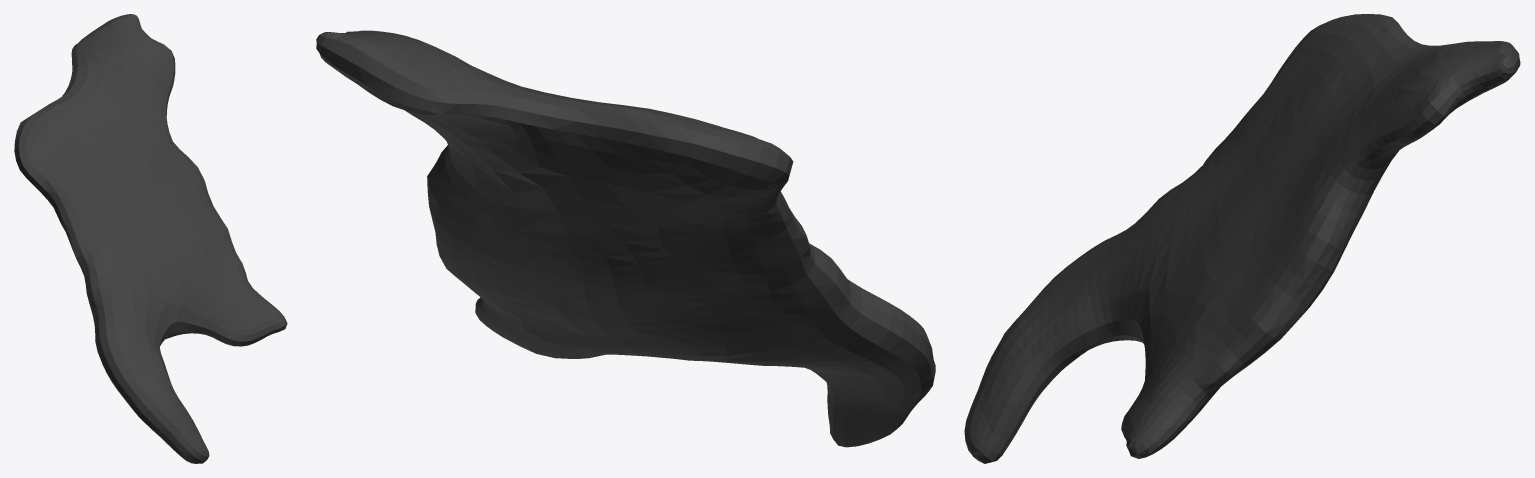
File: Pancreas.glb
3 views of the same model, side by side, from view 1: azimuth 30°, elevation 25°; view 2: azimuth 150°, elevation 25°; view 3: azimuth 270°, elevation 25° (orthographic). The views are drawn at different scales.
Parts seen in each view (by area): view 1: Pancreas; view 2: Pancreas; view 3: Pancreas.
Part boxes in pixels (x1=…): Pancreas: x1=14, y1=14, x2=287, y2=463; Pancreas: x1=316, y1=30, x2=935, y2=447; Pancreas: x1=964, y1=14, x2=1520, y2=463.
Bounding box in the file's own units: 0.2534 × 0.3512 × 0.3699.
1 material, 1 textured.
